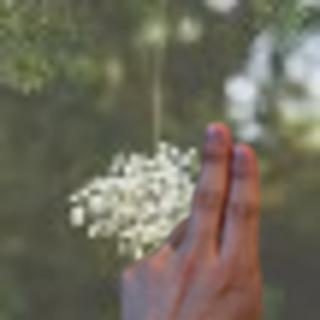DHAVE: (107, 117, 273, 320)
